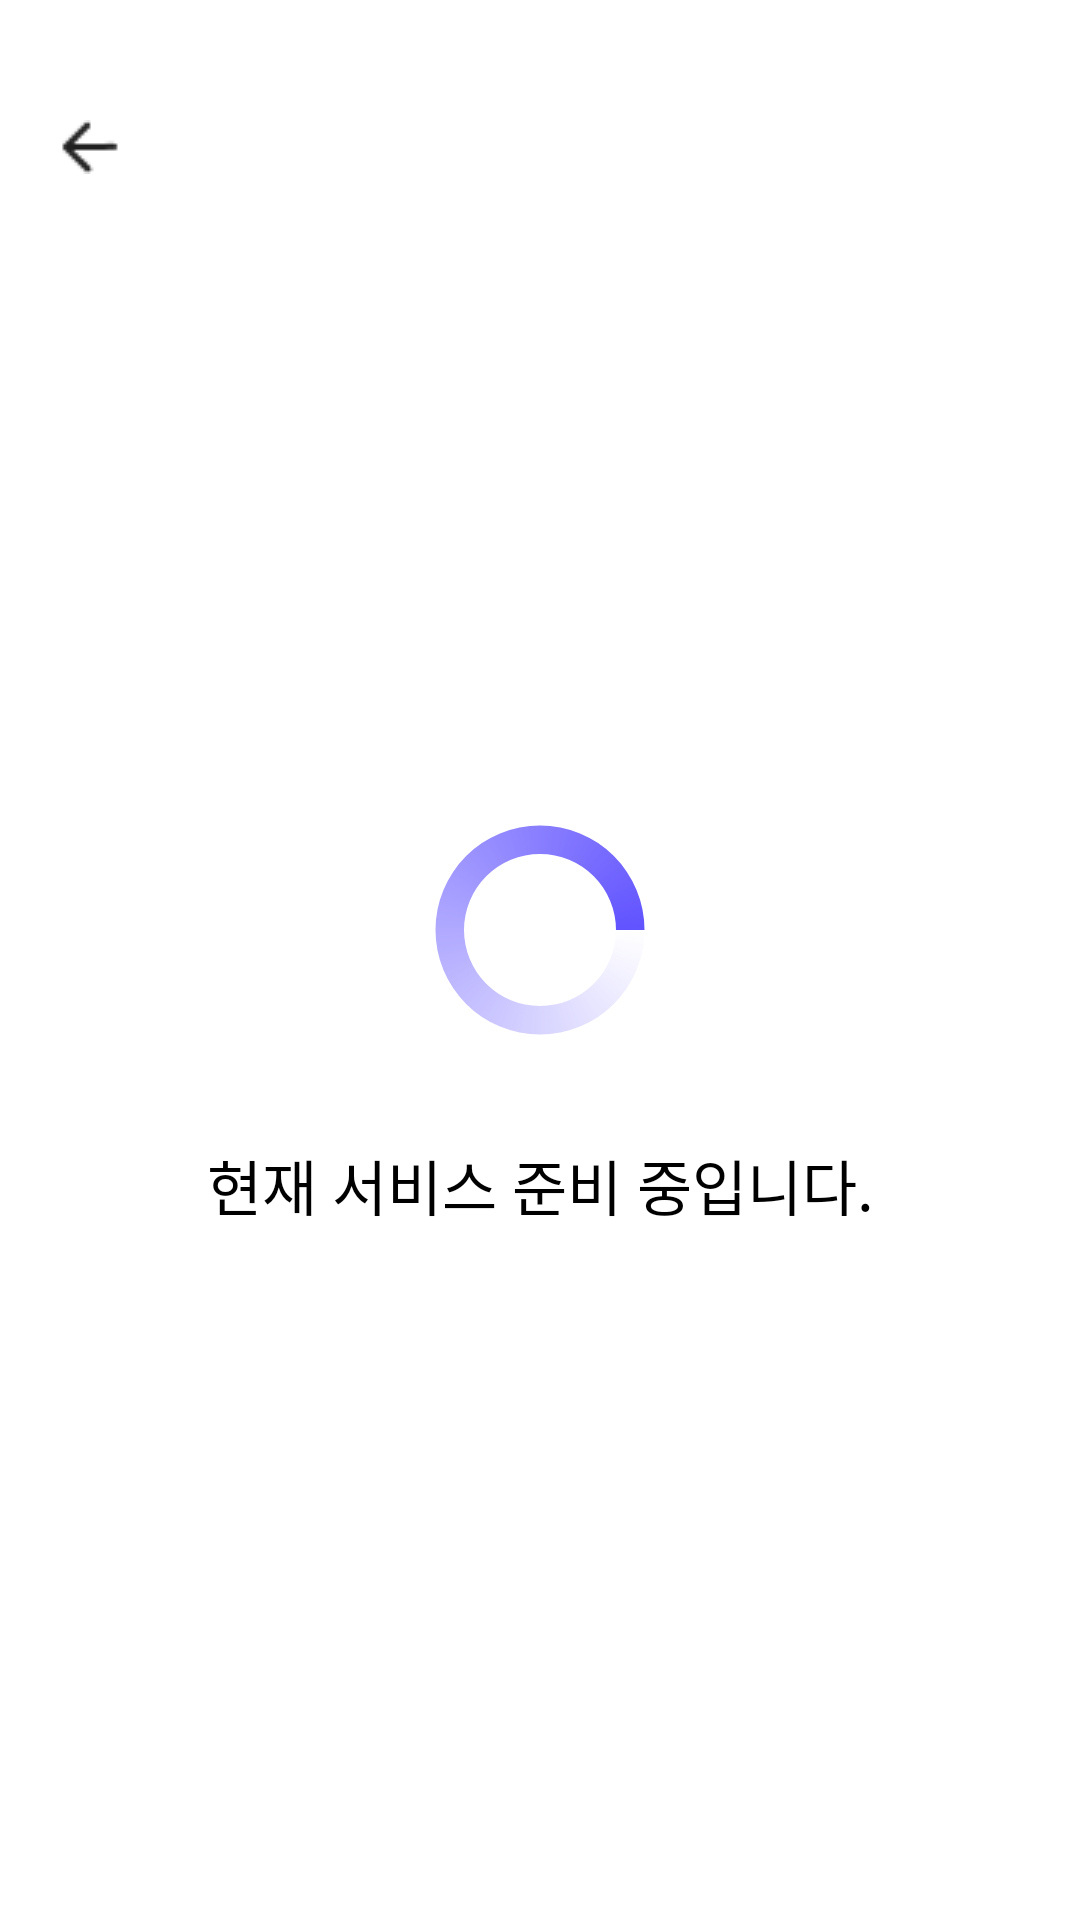

Named icons in this screenshot (1080×1920) and their bounding boxes, (x1, y1, x2, y2):
backward: (62, 120, 118, 174)
